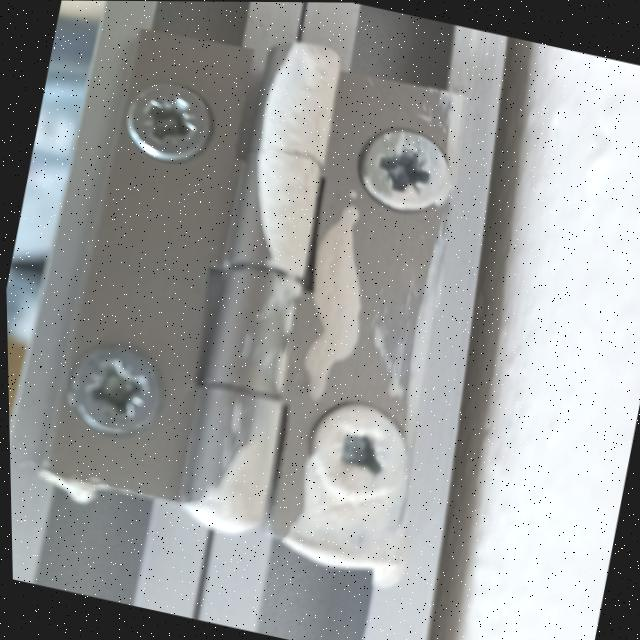Pozidriv: (103, 66, 224, 175), (60, 334, 172, 449), (350, 121, 460, 213)
